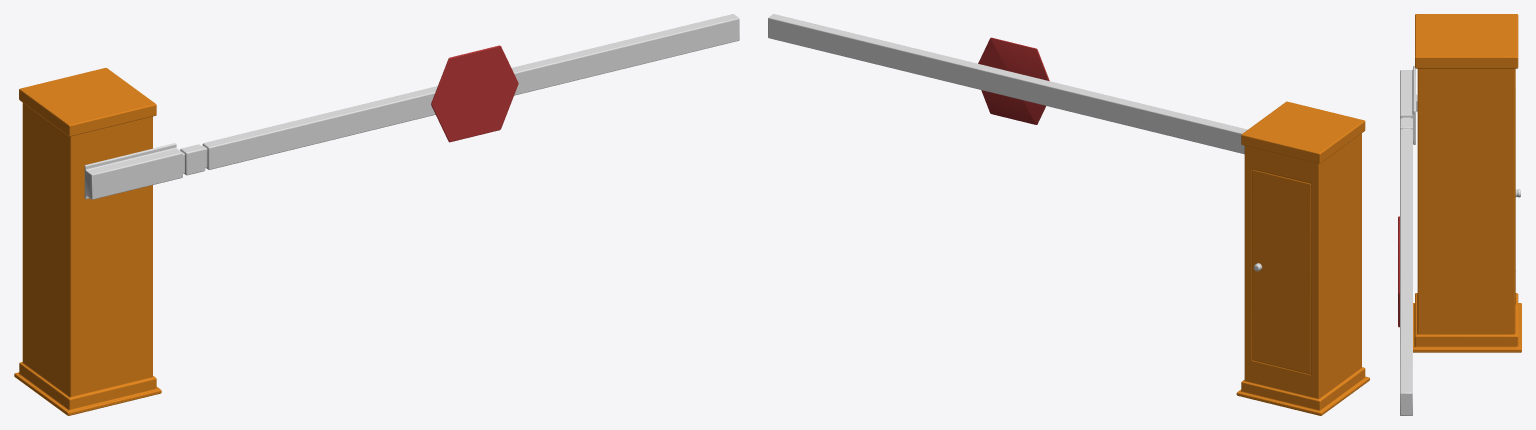
The model's file is RoadBarrier.glb.
The picture shows the model from 3 angles, left to right: view 1: azimuth 30°, elevation 25°; view 2: azimuth 150°, elevation 25°; view 3: azimuth 270°, elevation 25°; orthographic projection. The views are drawn at different scales.
Parts seen in each view (by area): view 1: SM_RoadBarrier; view 2: SM_RoadBarrier; view 3: SM_RoadBarrier.
Part boxes in pixels (x1=…): SM_RoadBarrier: x1=14, y1=14, x2=739, y2=415; SM_RoadBarrier: x1=768, y1=14, x2=1369, y2=415; SM_RoadBarrier: x1=1398, y1=14, x2=1521, y2=415.
Bounding box in the file's own units: 1.86 × 0.771 × 0.2938.
